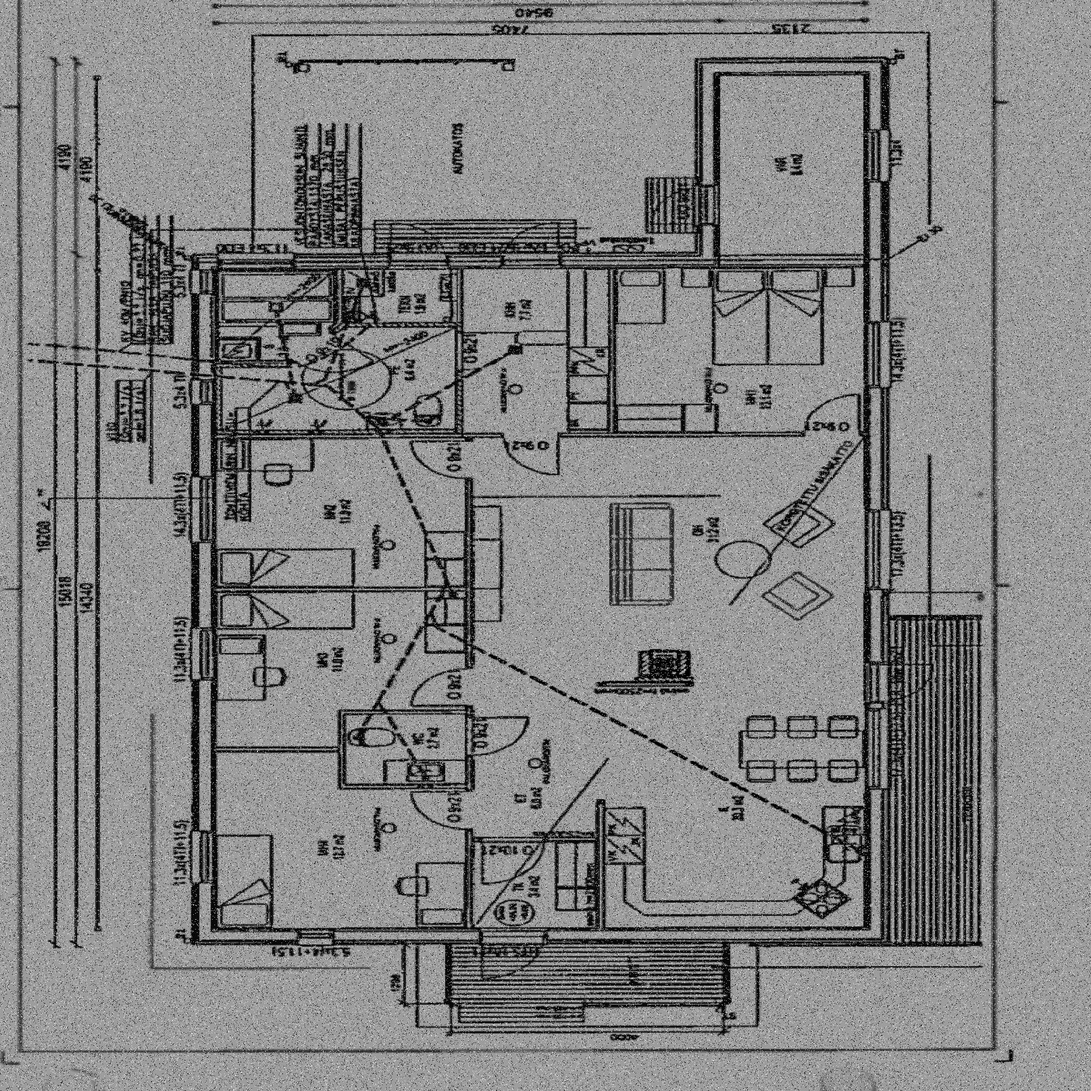wall: (865, 60, 889, 943), (193, 253, 217, 943), (193, 928, 888, 943), (193, 253, 720, 268), (697, 60, 720, 268), (467, 437, 474, 928), (697, 60, 889, 74), (286, 321, 344, 367), (217, 429, 463, 437), (721, 255, 865, 268), (463, 433, 865, 437), (609, 268, 617, 433), (217, 586, 467, 591), (456, 268, 463, 437), (597, 800, 604, 928), (339, 784, 467, 789), (339, 709, 467, 714), (474, 837, 597, 842), (340, 321, 456, 326), (339, 709, 346, 789), (217, 747, 339, 751), (598, 681, 693, 686), (336, 268, 344, 322), (217, 362, 290, 366), (636, 677, 693, 681)
